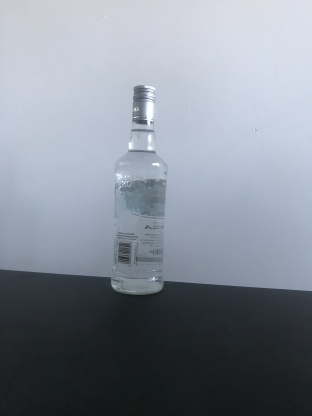nakretka: (131, 83, 156, 124)
